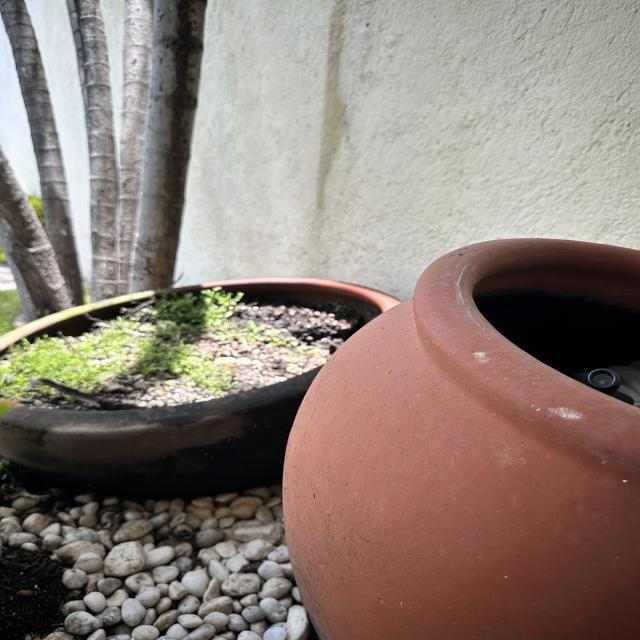hidden camera: (587, 368, 620, 391)
